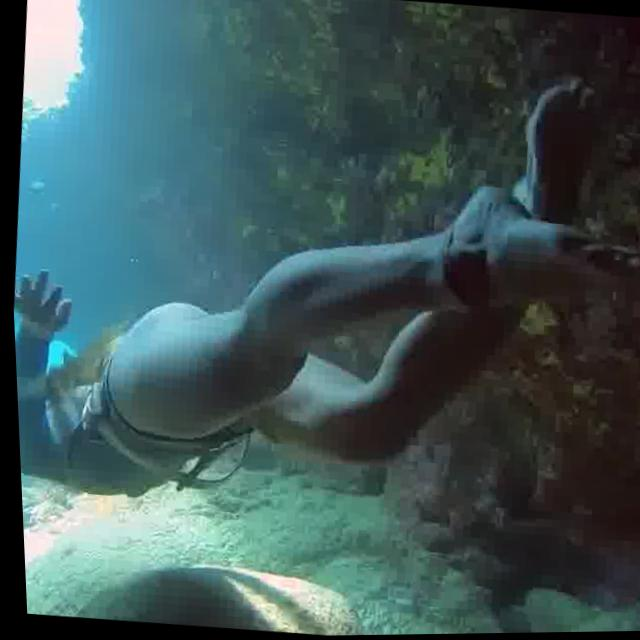human: (0, 3, 640, 559)
